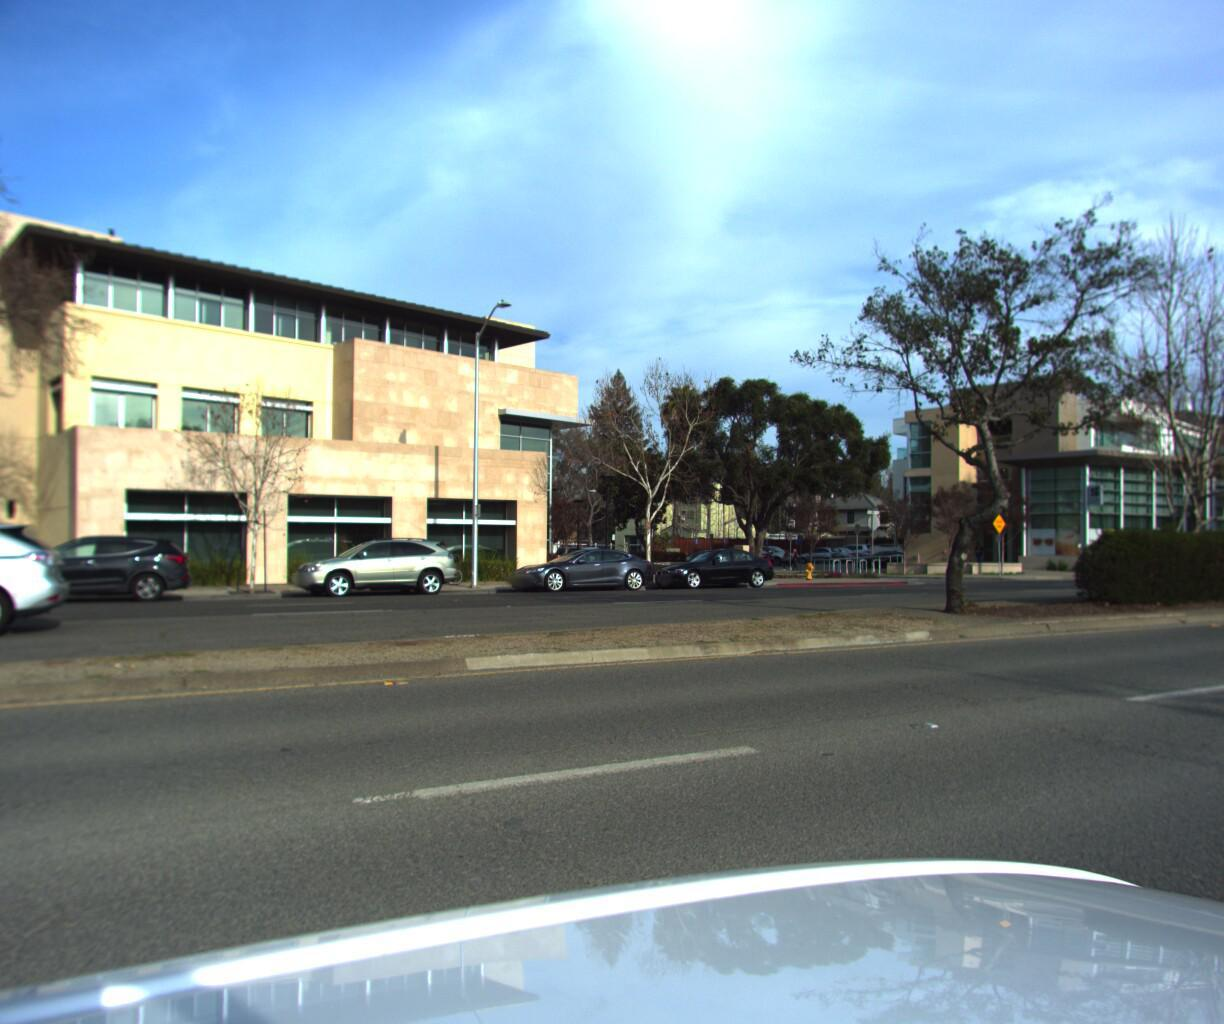car: (0, 533, 197, 614), (282, 535, 456, 601), (0, 507, 63, 656), (503, 544, 653, 595), (646, 546, 768, 590)
